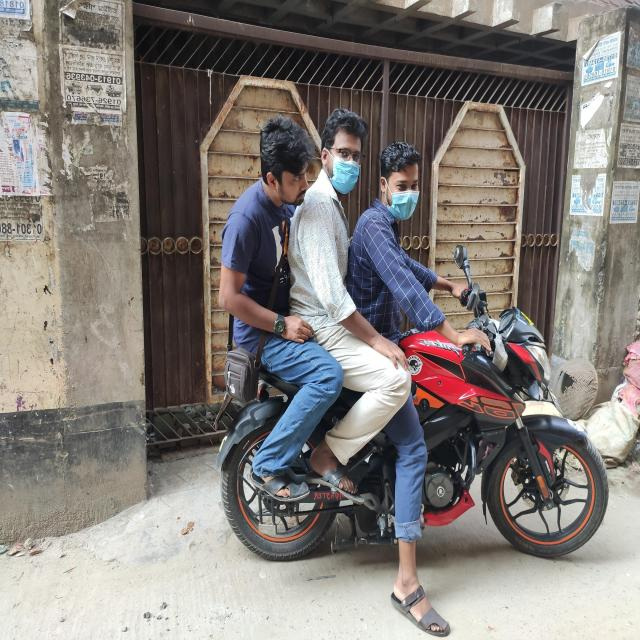triple_rider: (210, 109, 607, 555)
